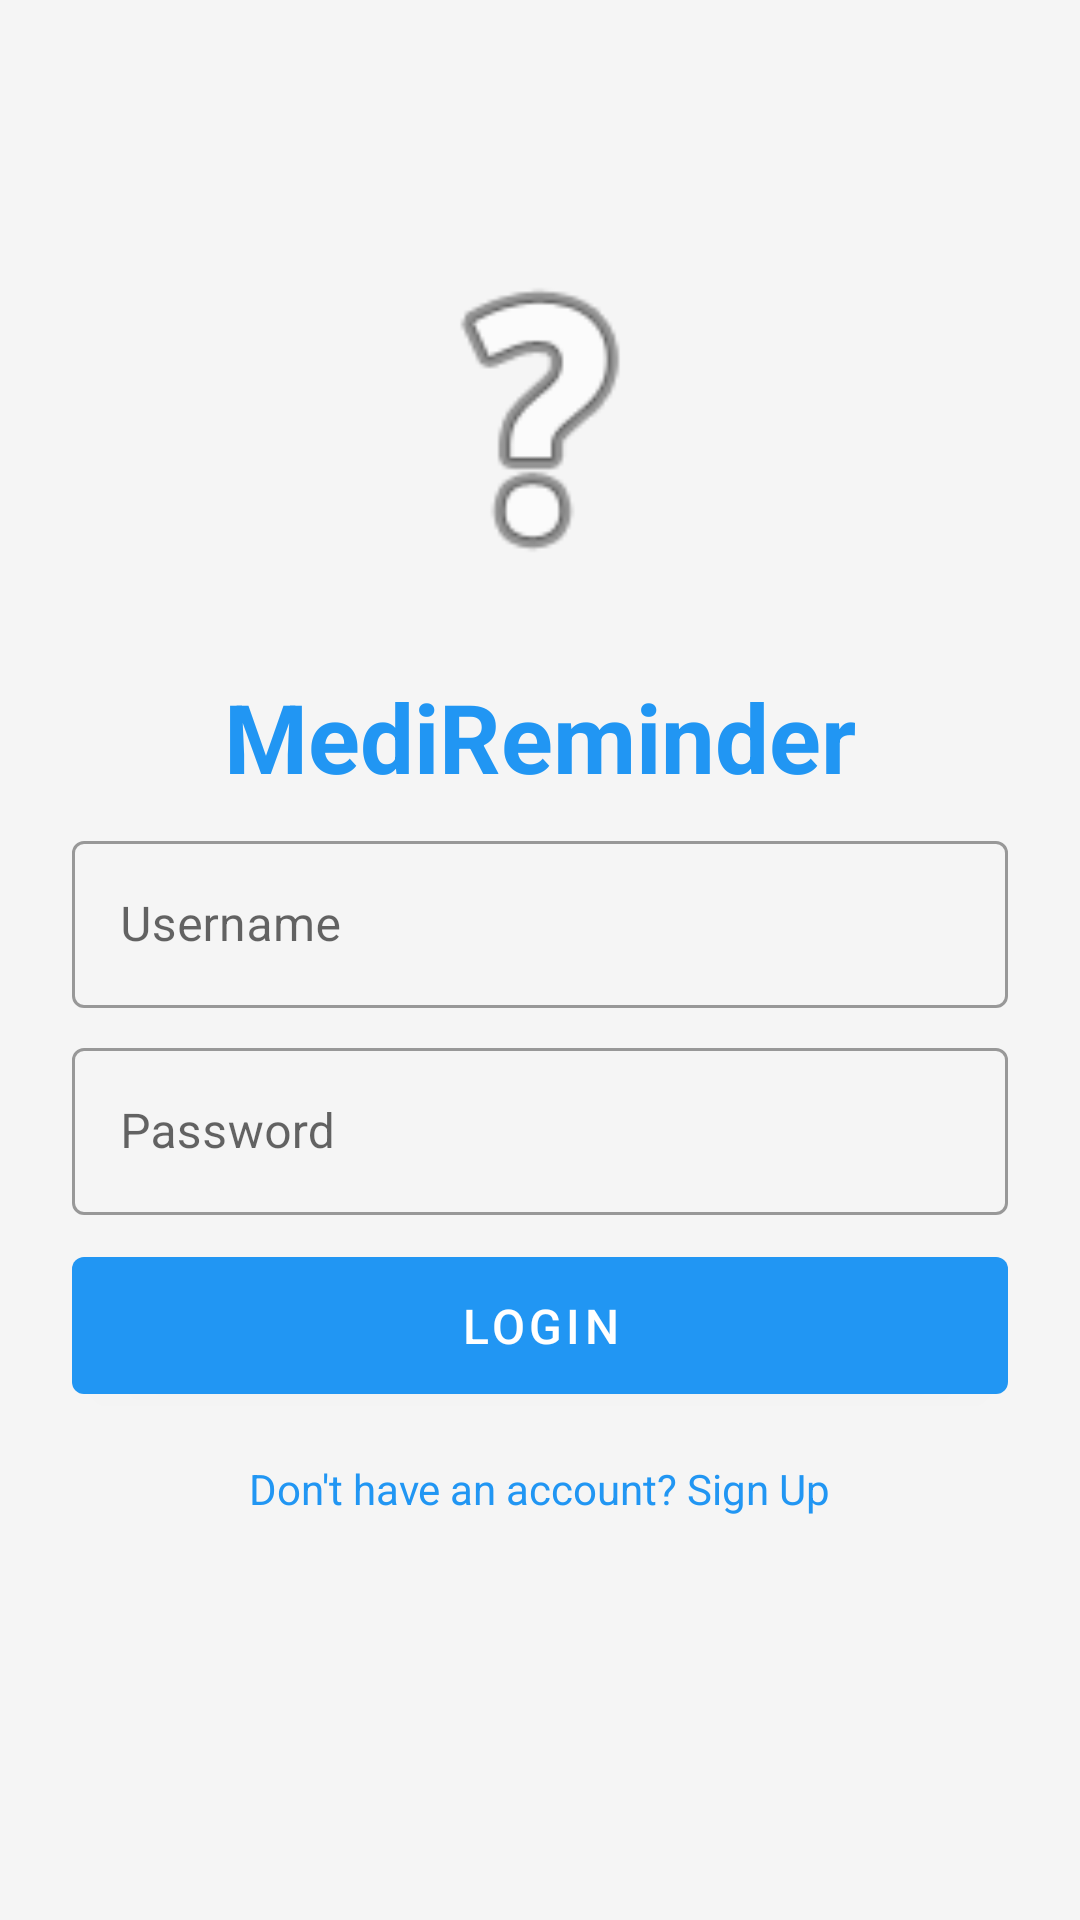

Where to tap for icons on this 1080px×1920px app screen, as point (x, y):
help: point (540, 420)
